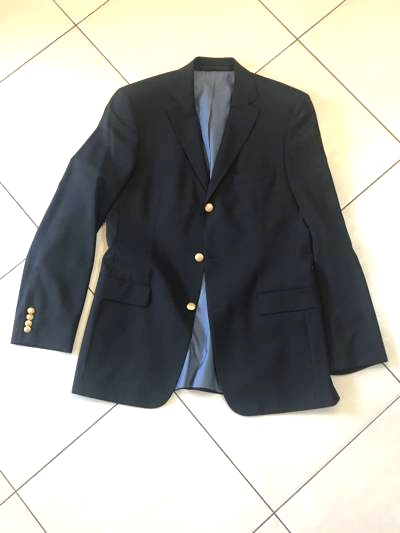Blazer: (20, 43, 394, 428)
